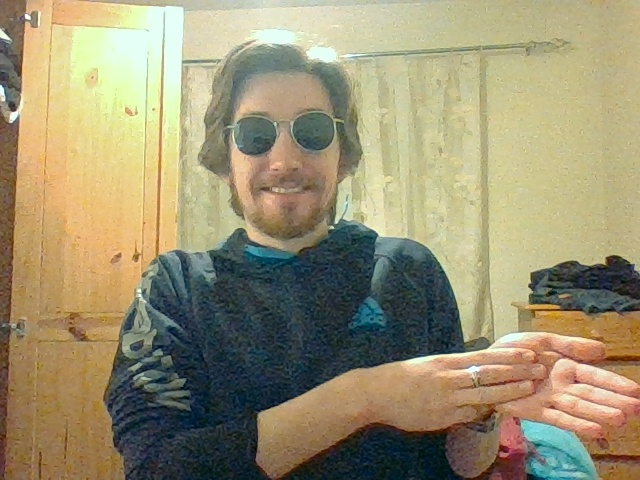mother: (447, 331, 640, 439)
